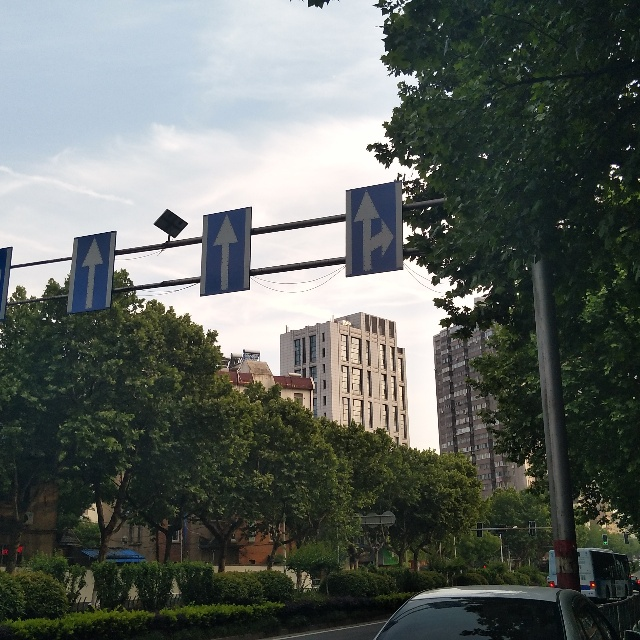straight: (72, 235, 107, 309), (212, 215, 240, 288)
